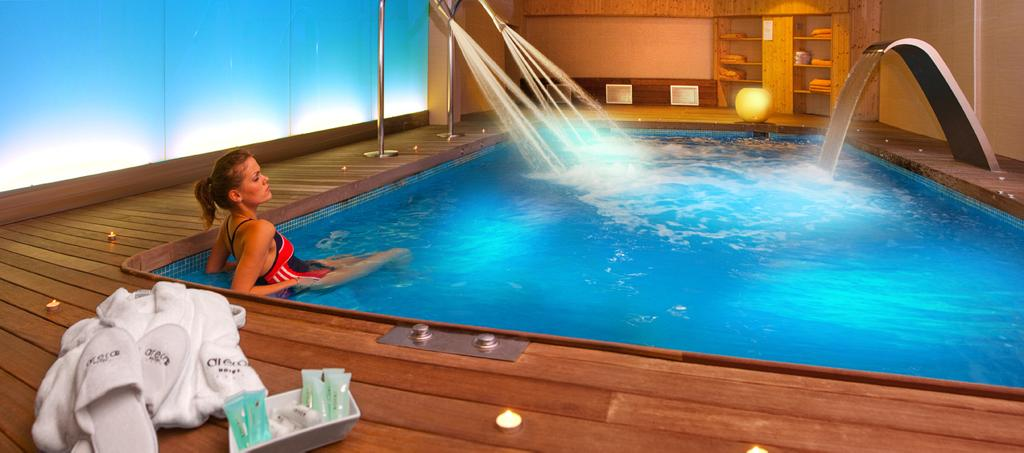face: (243, 154, 272, 201)
